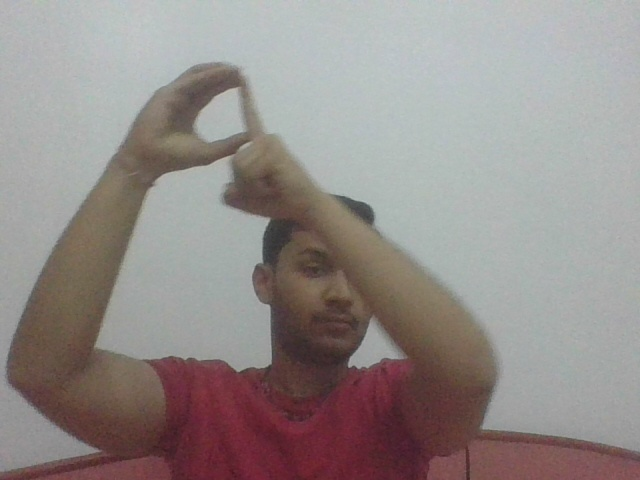D: (122, 58, 303, 215)
